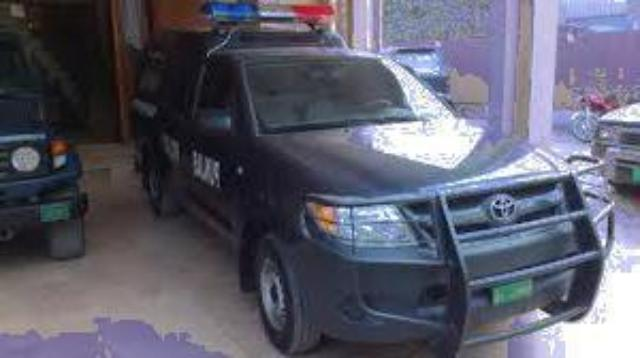police_car: (128, 0, 621, 354)
